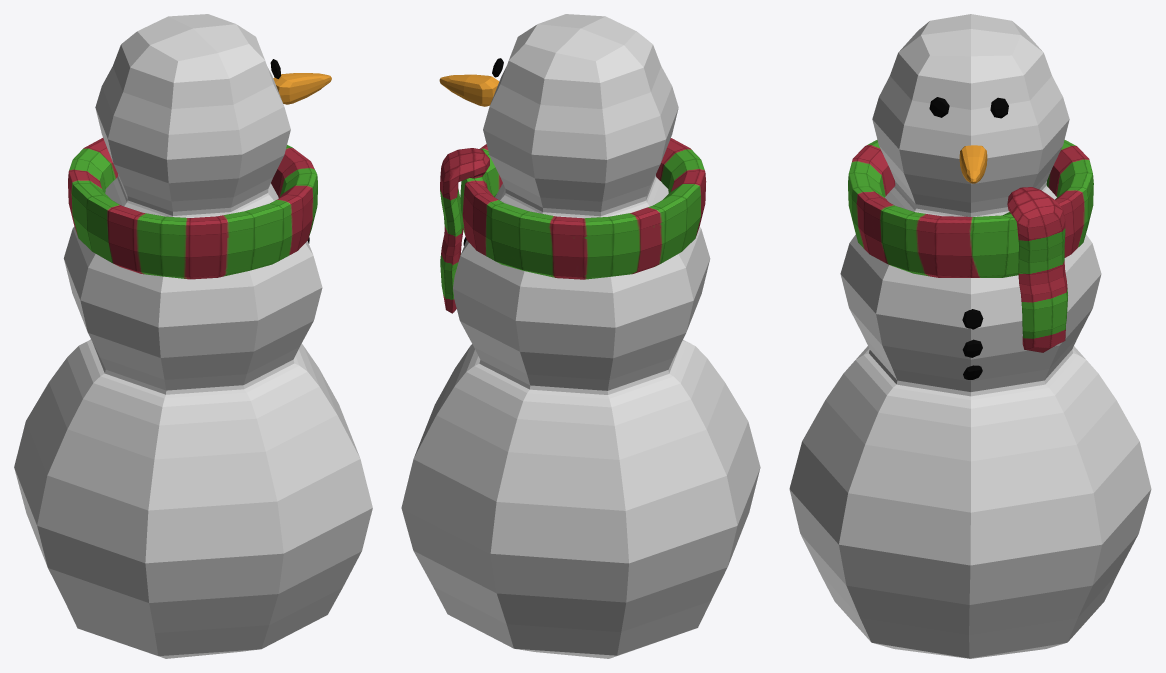
The model's file is Snowman.glb.
The picture shows the model from 3 angles, left to right: view 1: azimuth 30°, elevation 25°; view 2: azimuth 150°, elevation 25°; view 3: azimuth 270°, elevation 25°; orthographic projection.
Visible parts, largest first — view 1: Body, Scarf, Carrot; view 2: Body, Scarf, Carrot; view 3: Body, Scarf, Carrot.
Boxes of the visible parts, <box> form: Body: <box>14,14,372,658</box>; Scarf: <box>68,138,317,279</box>; Carrot: <box>273,73,331,104</box>; Body: <box>401,14,760,658</box>; Scarf: <box>440,138,706,313</box>; Carrot: <box>439,74,499,106</box>; Body: <box>789,14,1151,658</box>; Scarf: <box>848,140,1093,352</box>; Carrot: <box>959,145,987,183</box>.
Bounding box in the file's own units: 78.52 × 143 × 78.52.
8 materials, 1 textured.
